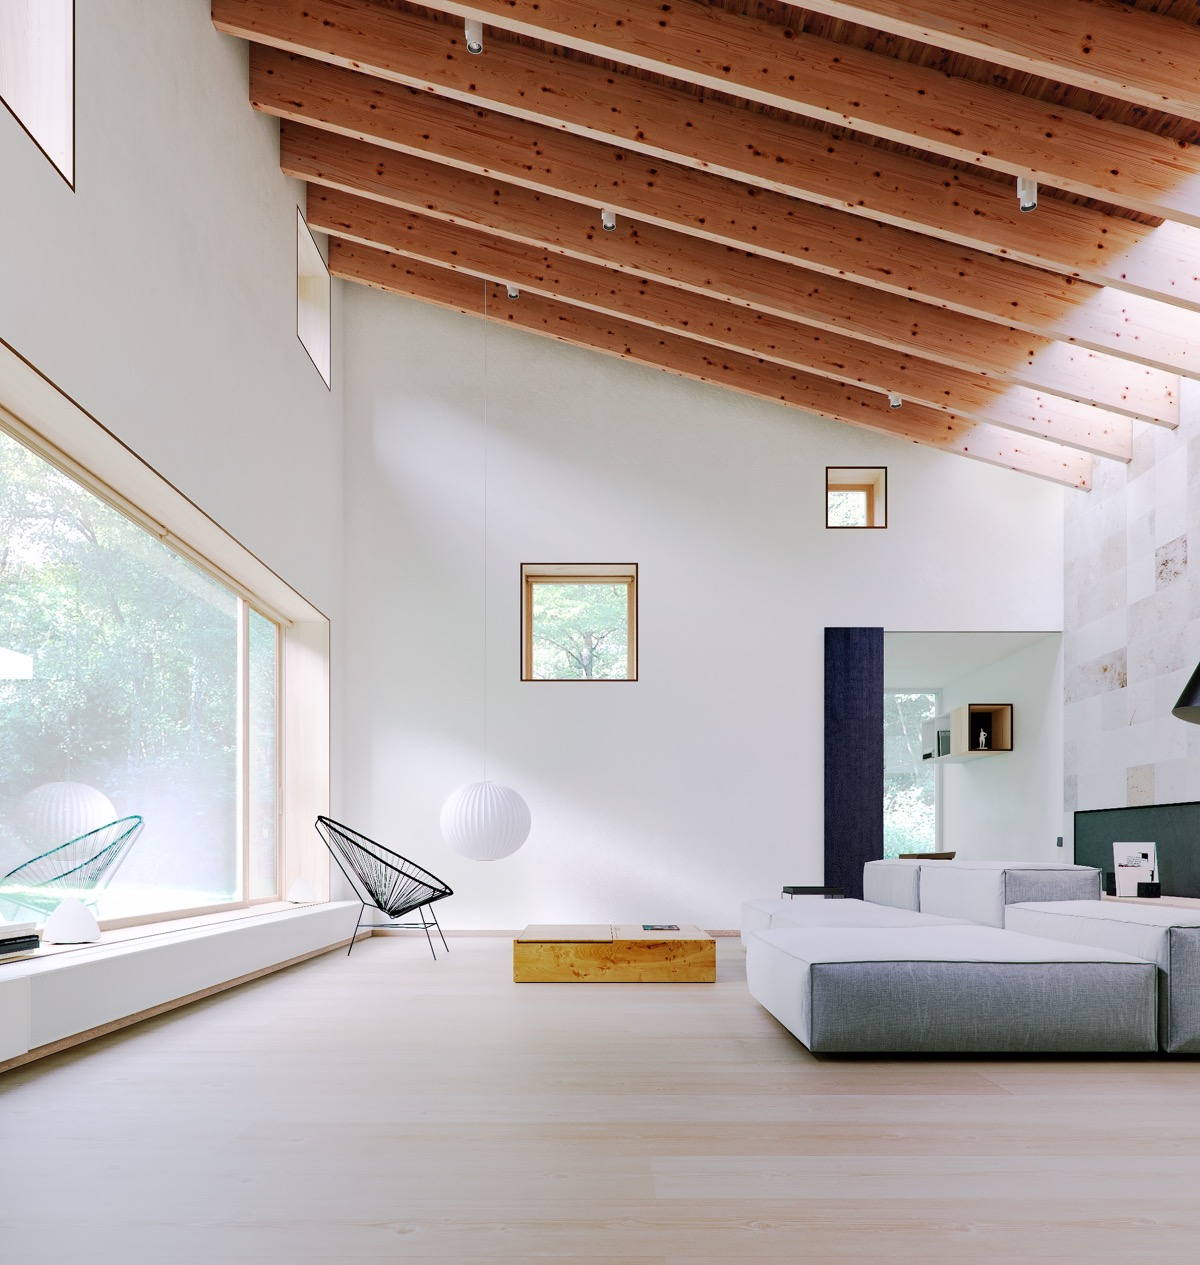chair: (309, 808, 460, 964)
sofa: (740, 839, 1200, 1072)
table: (505, 914, 723, 992)
